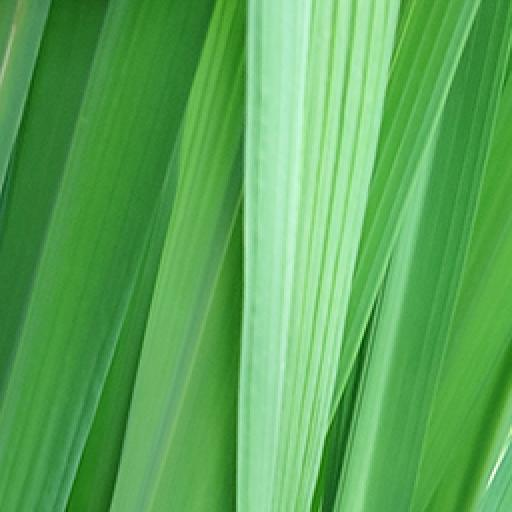Healthy Leaf: (10, 8, 502, 508)
